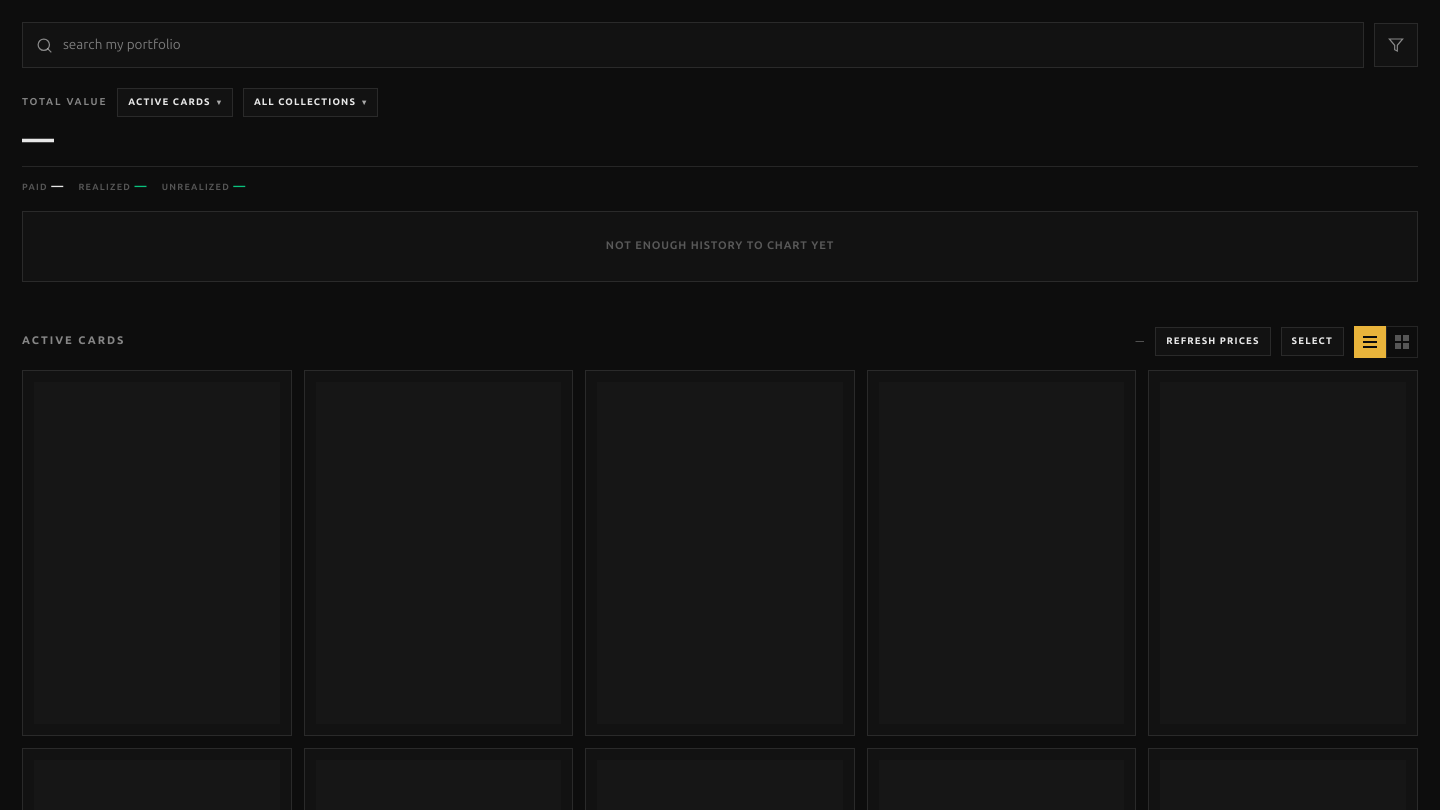
Test case: a failed removal keeps that card selected and the dialog open with an error
Click the button "Select": (1312, 342) [1281, 328, 1344, 356]
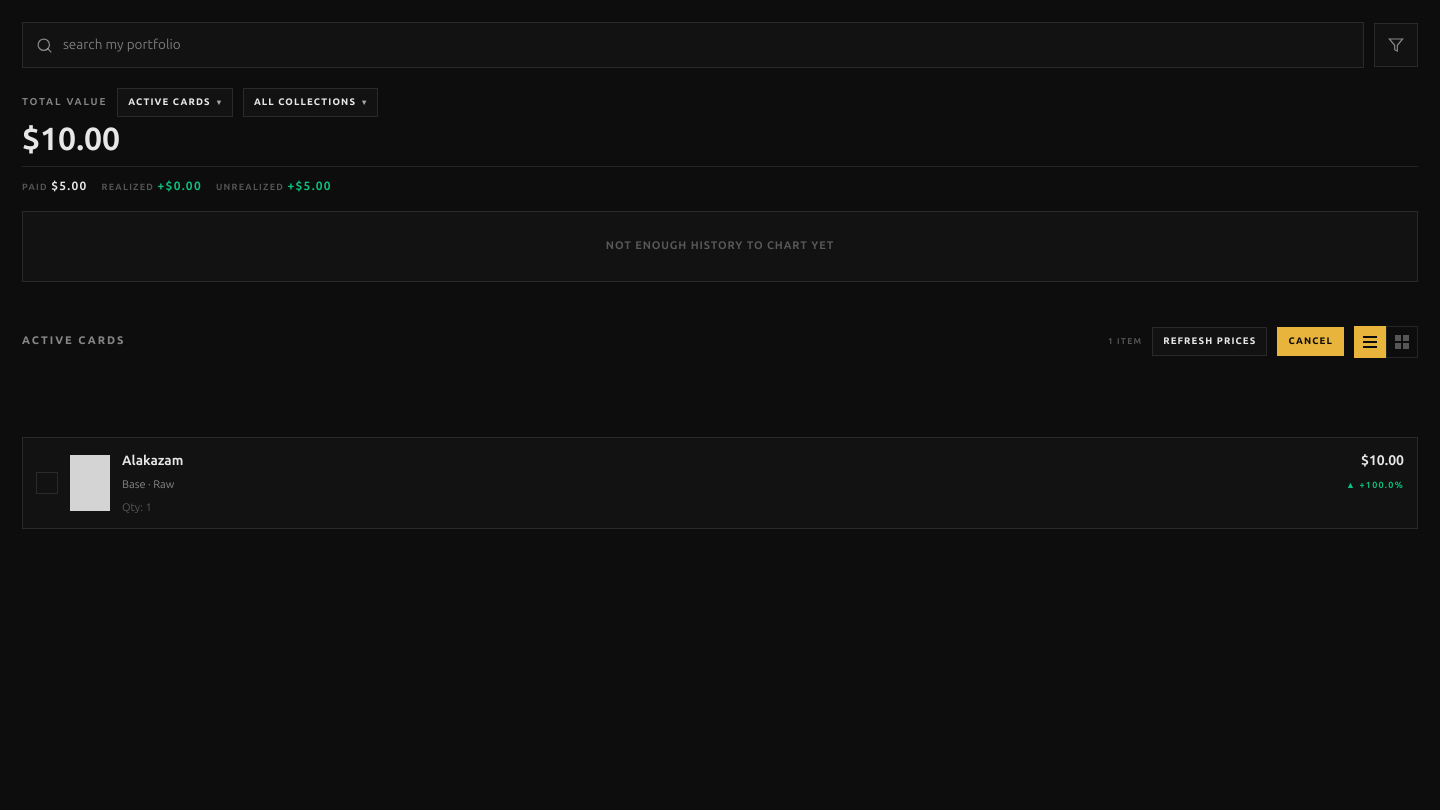
Click the button "Alakazam": (90, 483) [22, 437, 1418, 529]
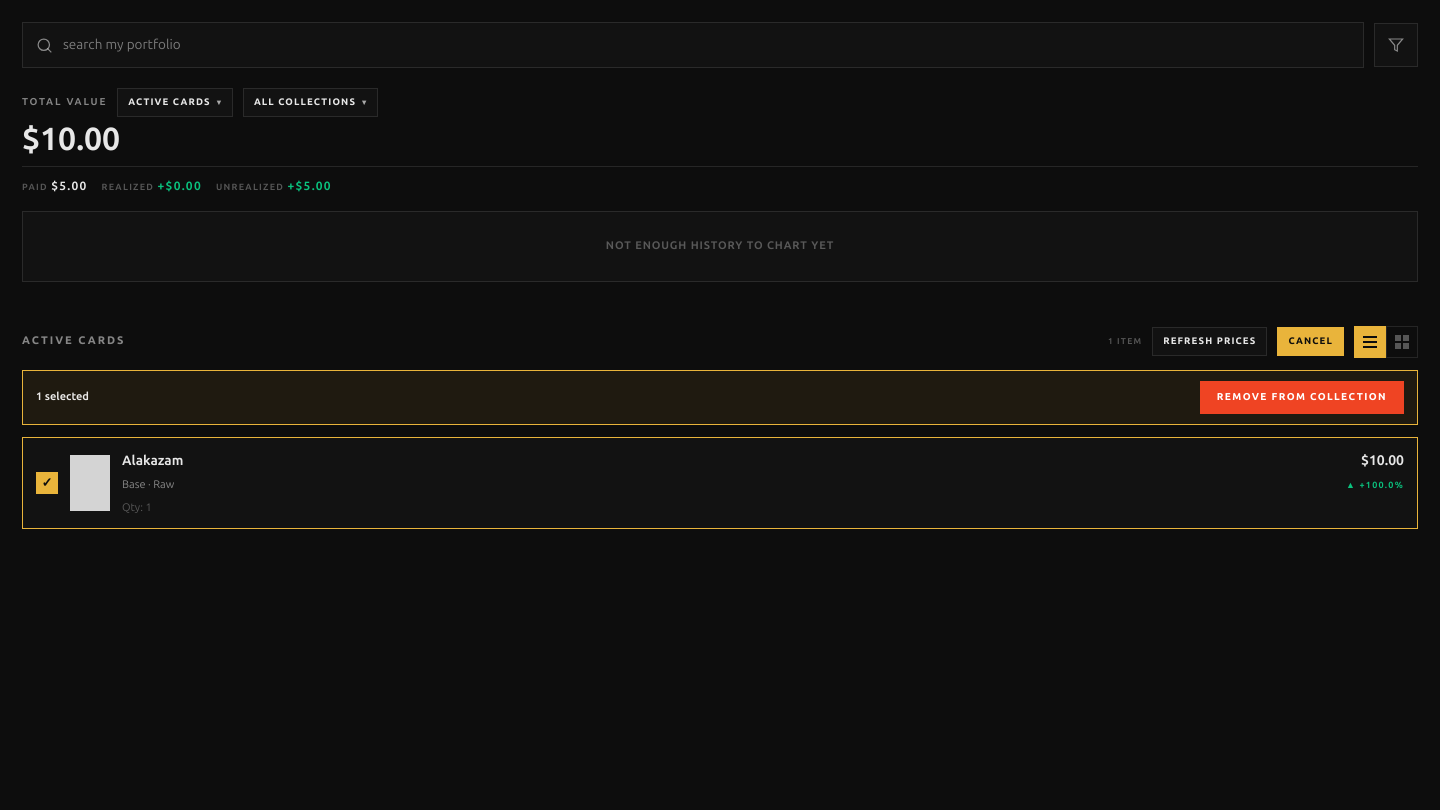
Click the button "Remove from collection": (1302, 397) [1200, 381, 1404, 414]
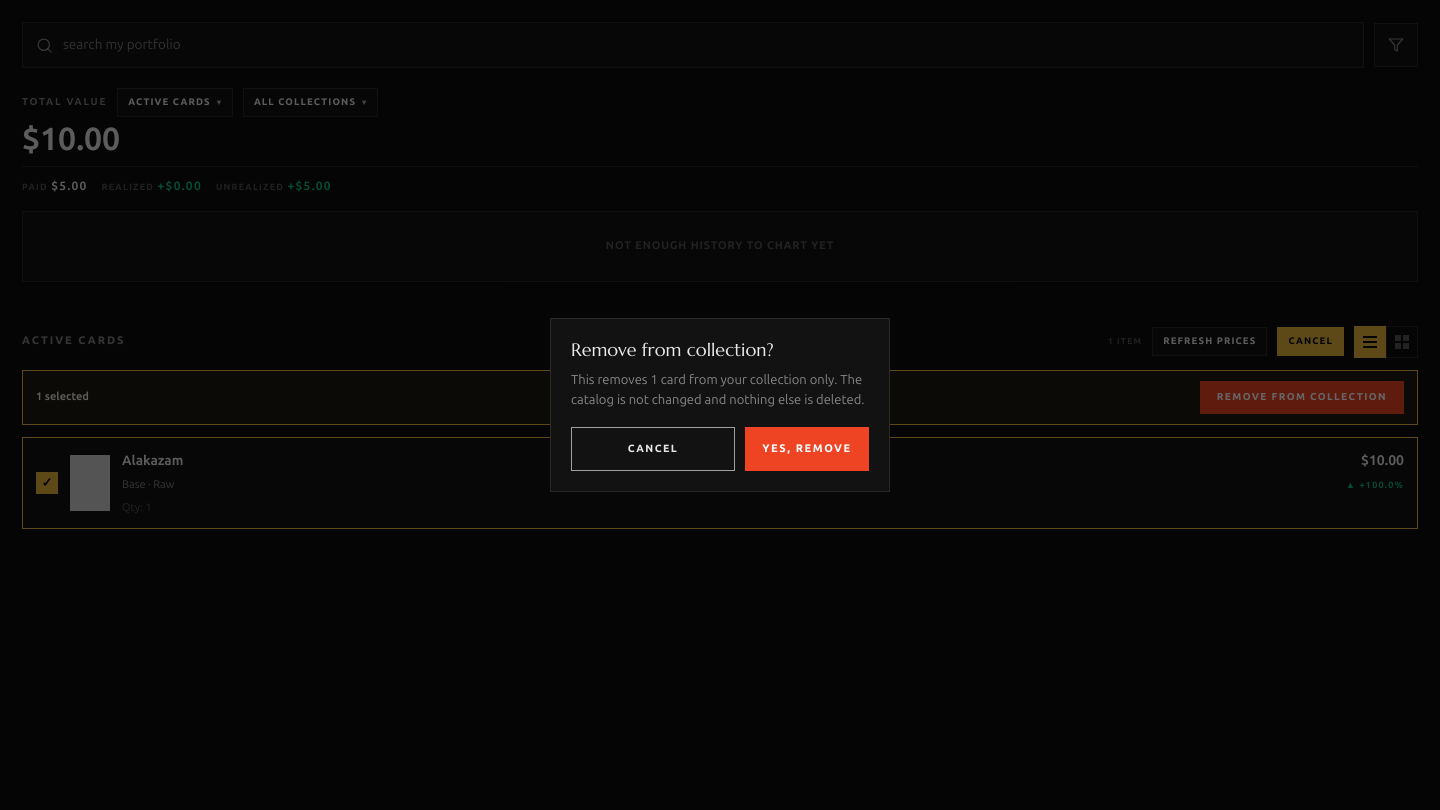
Click the button "Yes, Remove": (807, 449) [745, 427, 869, 471]
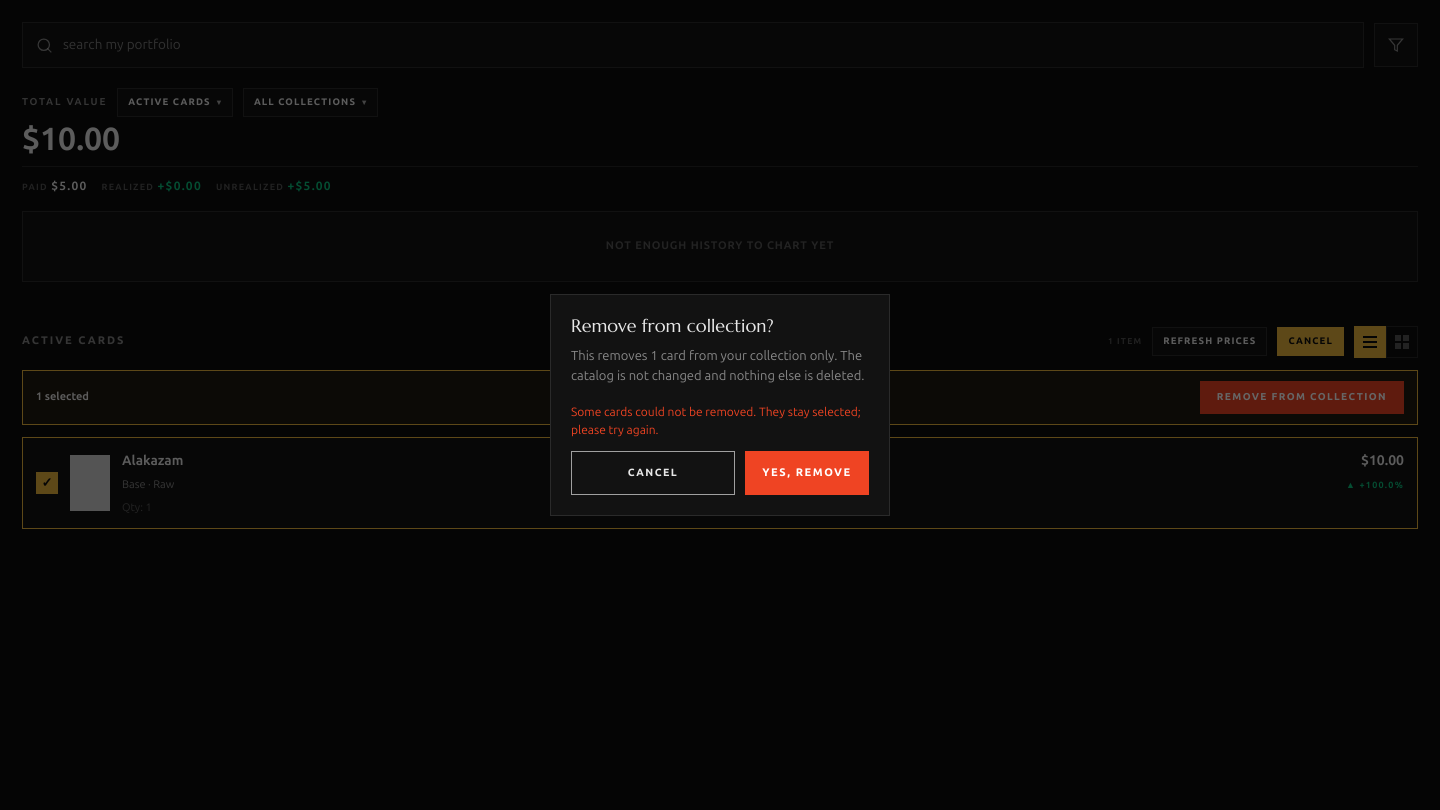
Now the text "1 selected" is shown, box [36, 389, 89, 405]
Now the text "could not be removed" is shown, box [571, 405, 861, 437]
